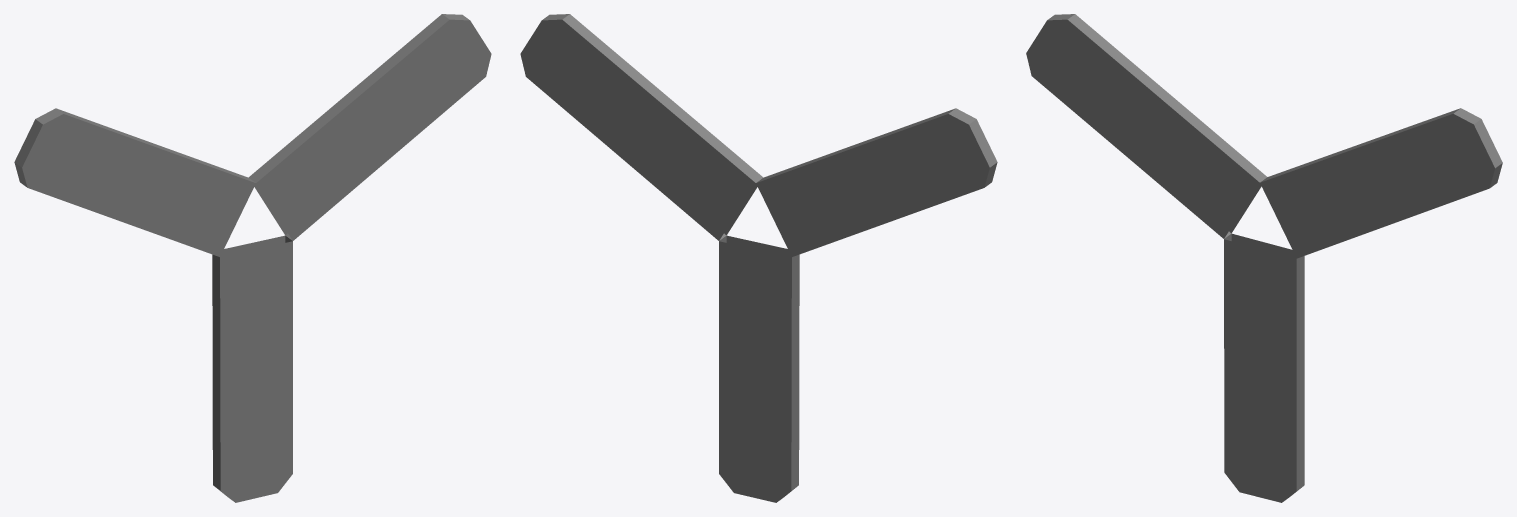
Rendered from Small_Fan_Acc.obj.
3 views of the same model, side by side, from view 1: azimuth 30°, elevation 25°; view 2: azimuth 150°, elevation 25°; view 3: azimuth 330°, elevation 25° (orthographic).
Parts seen in each view (by area): view 1: Small_Fan_Acc; view 2: Small_Fan_Acc; view 3: Small_Fan_Acc.
Boxes of the visible parts, x1=… form: Small_Fan_Acc: x1=14, y1=14, x2=491, y2=502; Small_Fan_Acc: x1=520, y1=14, x2=997, y2=502; Small_Fan_Acc: x1=1026, y1=14, x2=1502, y2=502.
Size of the model in its own units: 0.1962 by 0.1723 by 0.00557.
